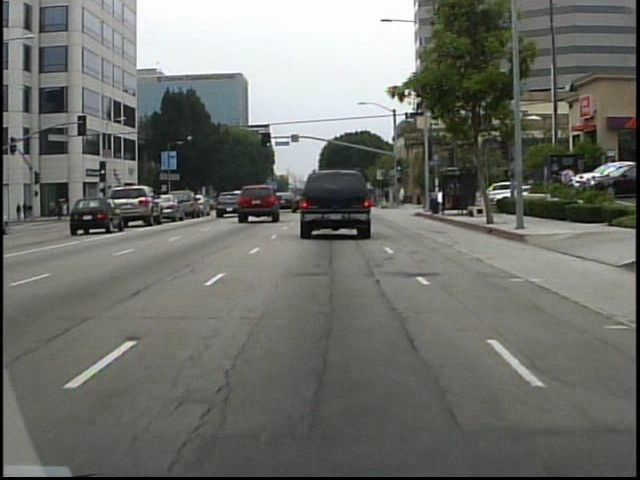person: (397, 184, 409, 209), (414, 181, 425, 208), (383, 184, 392, 207)
